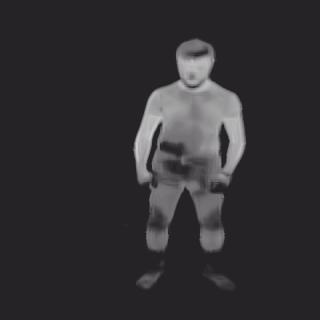Gun: (159, 140, 186, 176)
